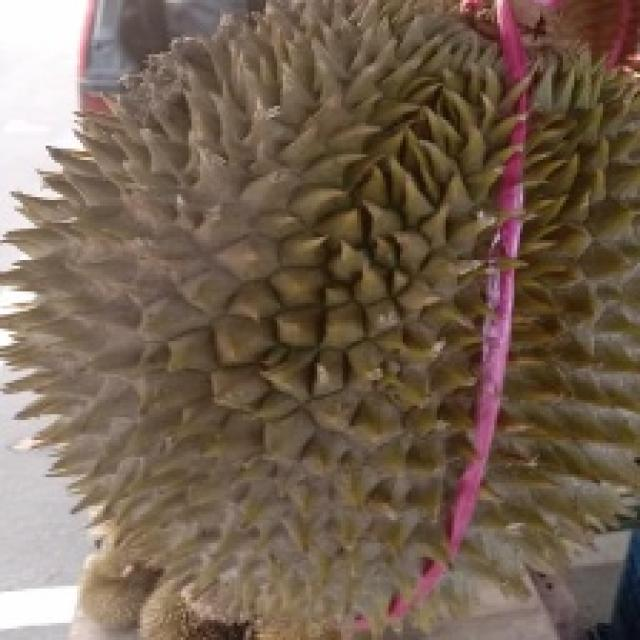d24: (58, 39, 624, 596)
